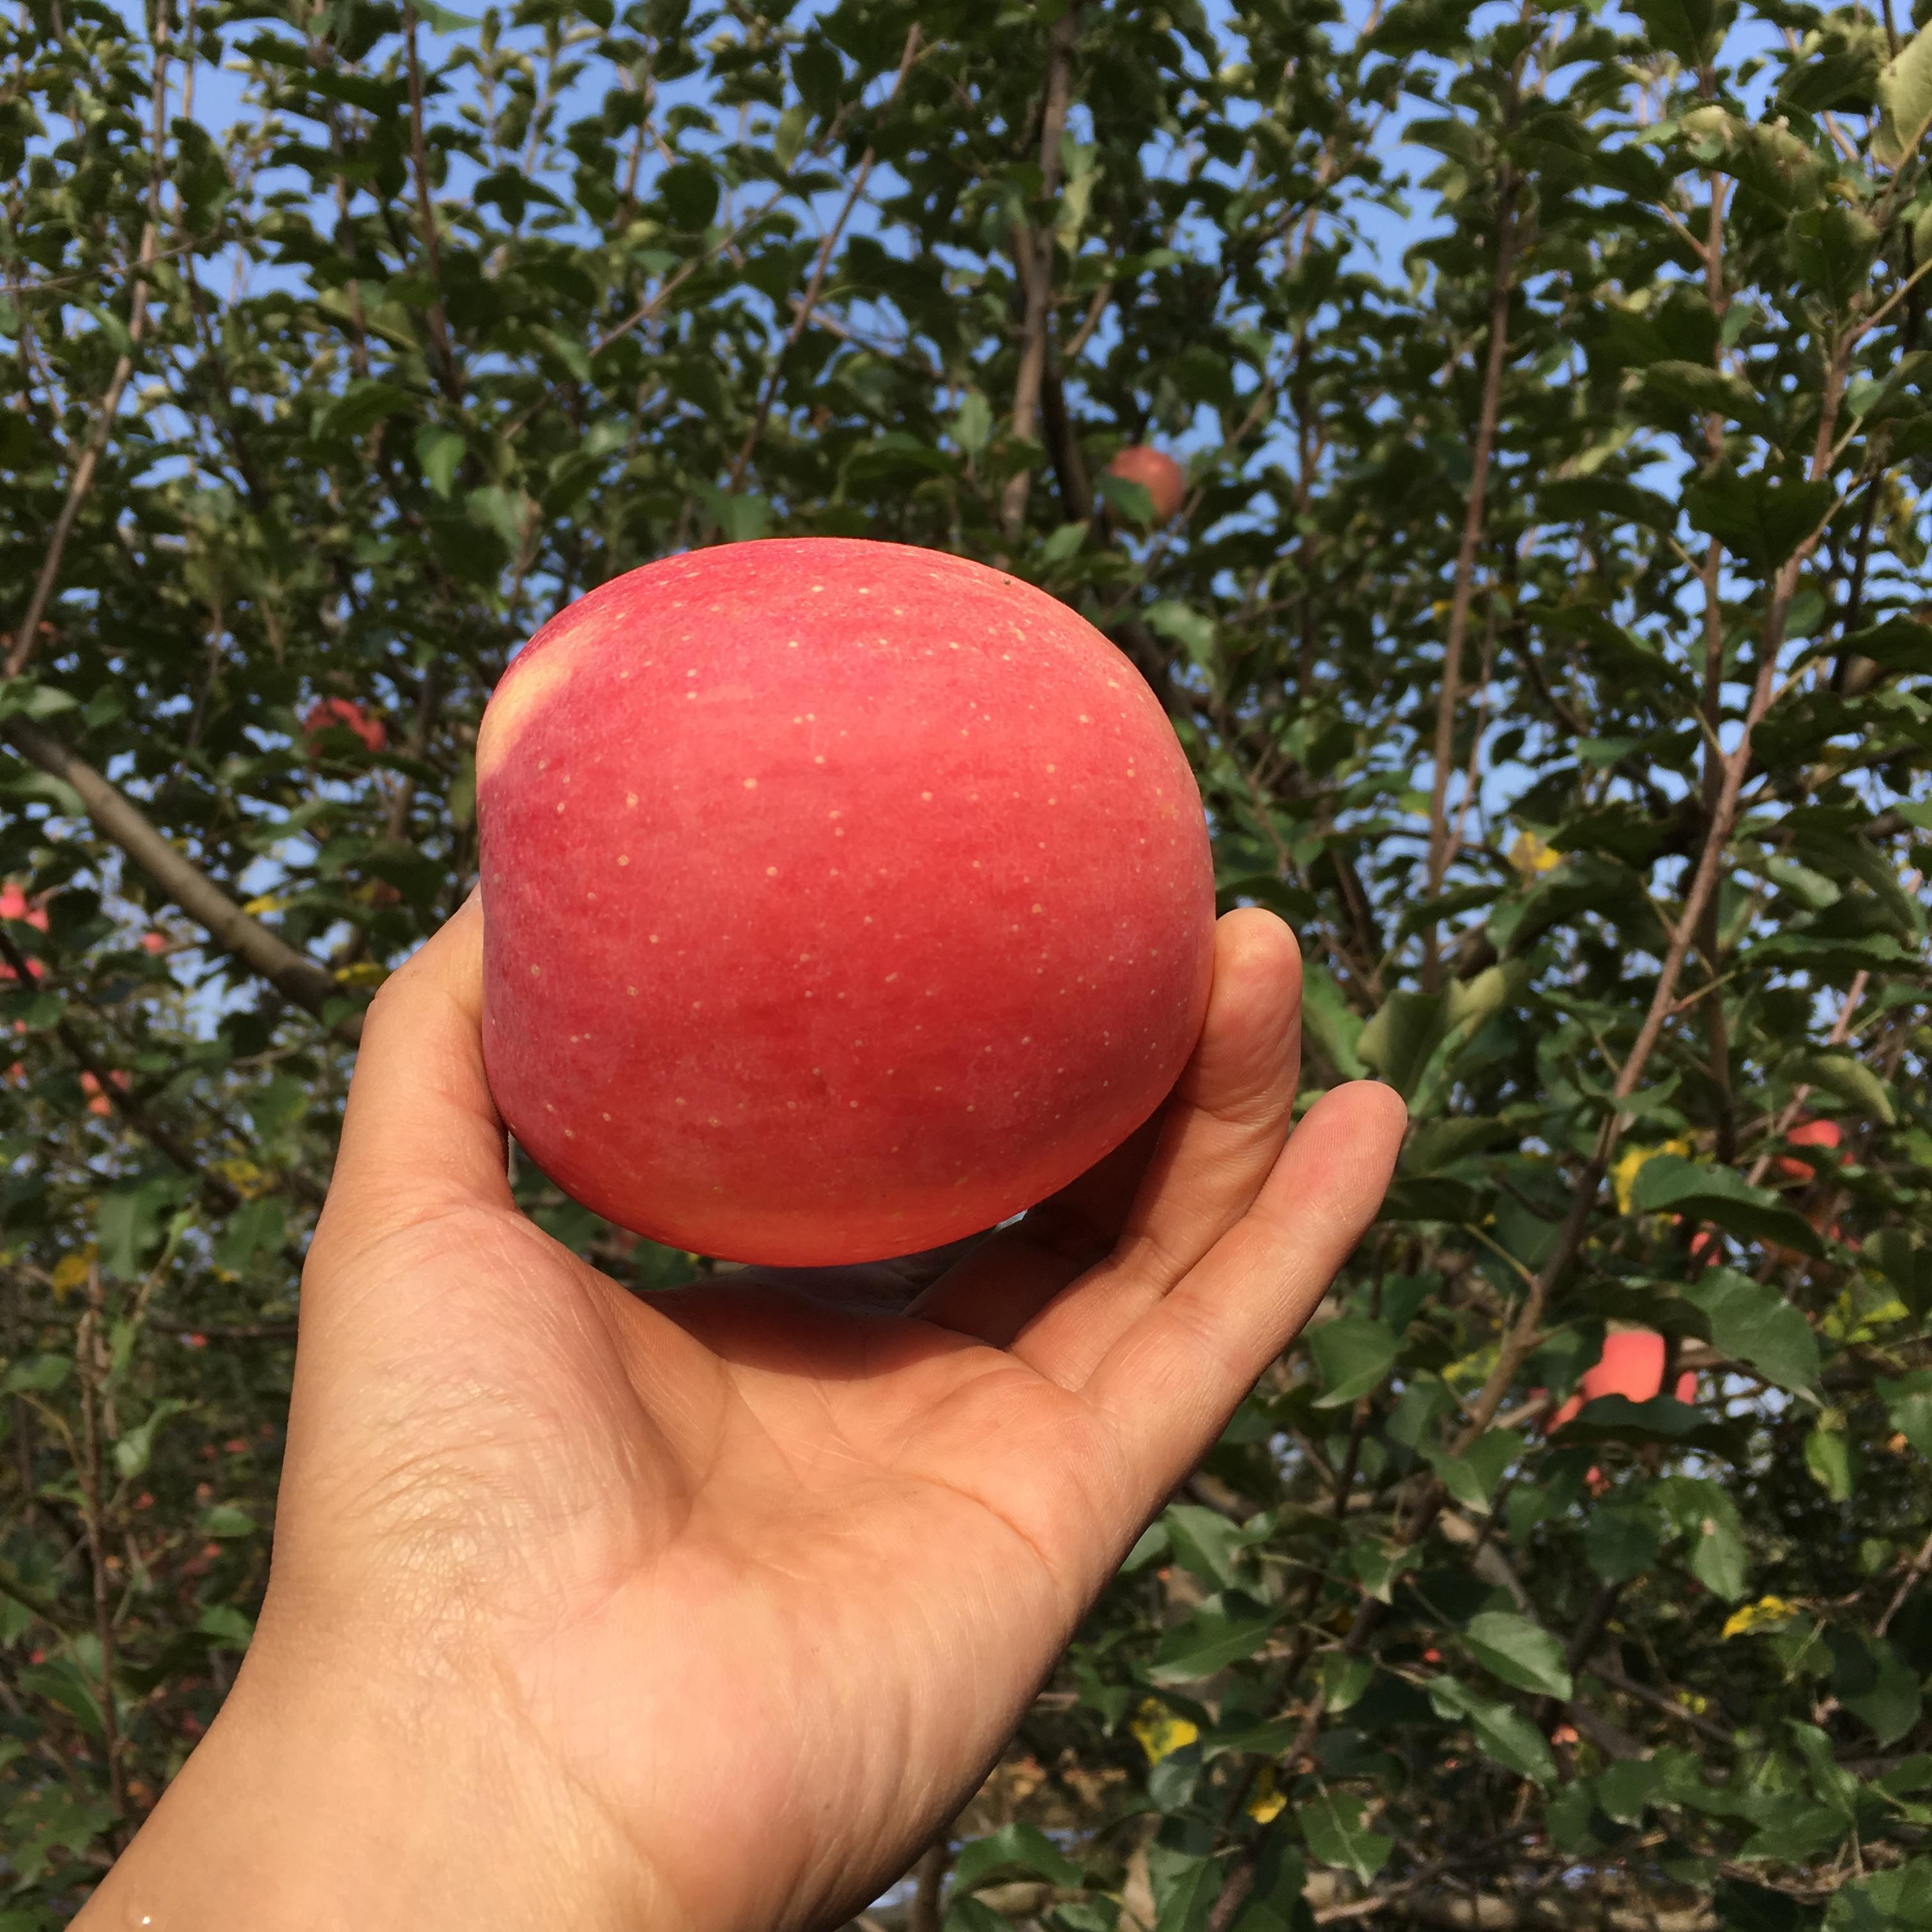apple: (462, 541, 1247, 1269)
